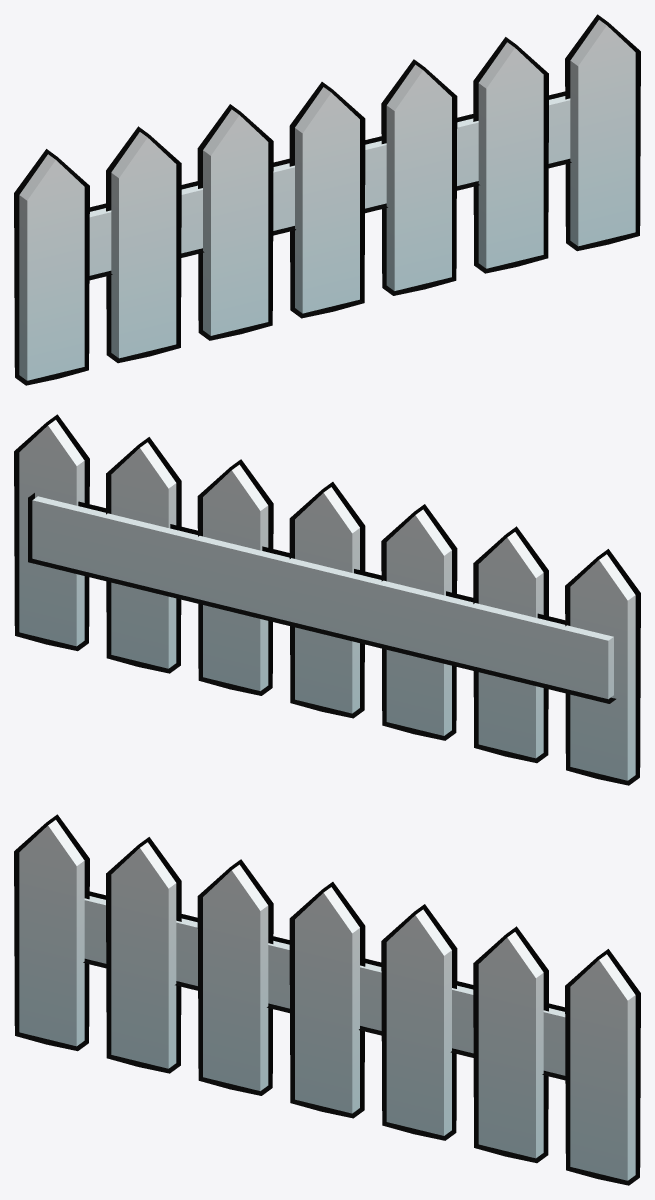
File: environment_fence.fbx
The picture shows the model from 3 angles, top to bottom: view 1: azimuth 30°, elevation 25°; view 2: azimuth 150°, elevation 25°; view 3: azimuth 330°, elevation 25°; orthographic projection.
Visible parts, largest first — view 1: Cube.003; view 2: Cube.003; view 3: Cube.003.
Part boxes in pixels (<box>): Cube.003: <box>14,14,640,385</box>; Cube.003: <box>14,414,640,785</box>; Cube.003: <box>14,814,640,1185</box>.
Size of the model in its own units: 249 by 85.83 by 11.87.
